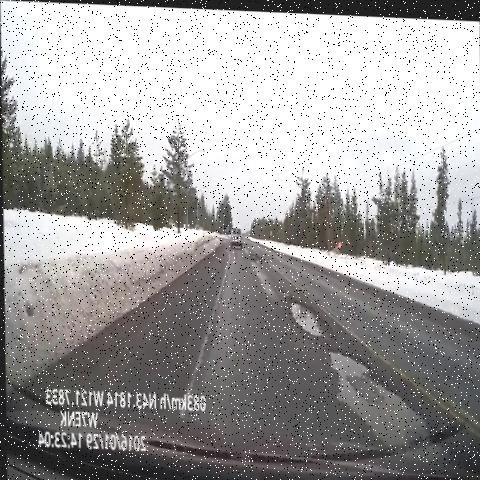pothole: (321, 332, 448, 480), (280, 266, 338, 353), (248, 233, 271, 274)
